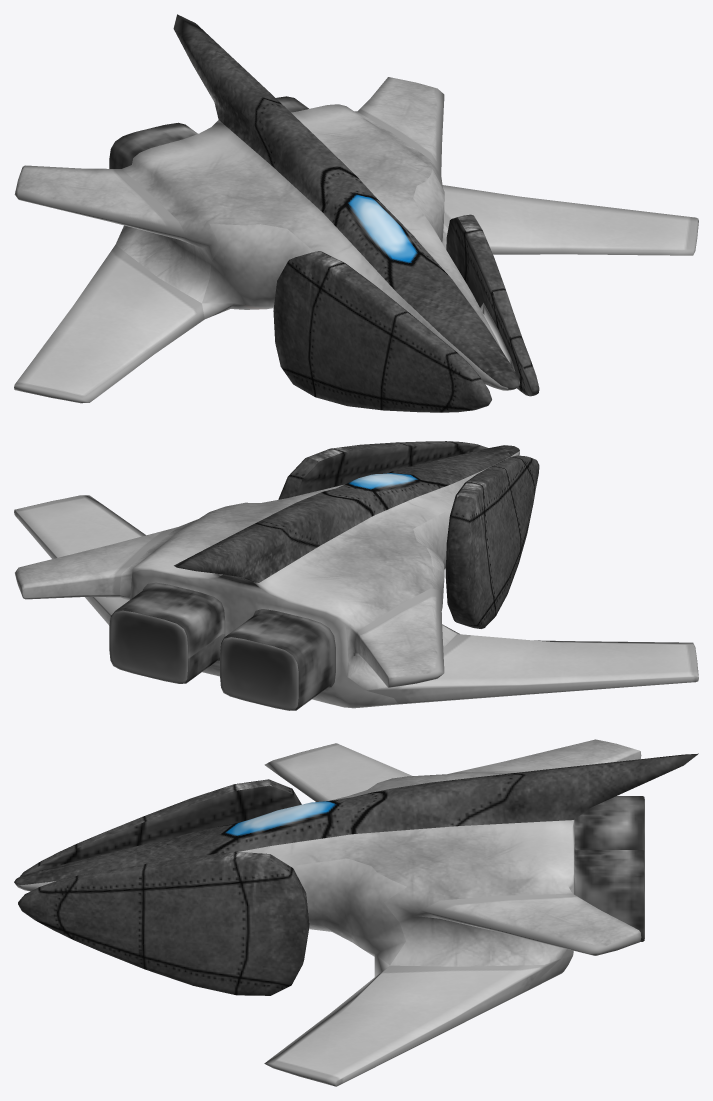
Rendered from Ship_1_ArrowHead.obj.
3 views of the same model, one above another, from view 1: azimuth 30°, elevation 25°; view 2: azimuth 150°, elevation 25°; view 3: azimuth 270°, elevation 25° (orthographic).
Parts seen in each view (by area): view 1: Ship_1_ArrowHead group; view 2: Ship_1_ArrowHead group; view 3: Ship_1_ArrowHead group.
Boxes of the visible parts, box(x1,y1,x2,y2) form: Ship_1_ArrowHead group: box(14, 14, 698, 412); Ship_1_ArrowHead group: box(14, 441, 698, 710); Ship_1_ArrowHead group: box(14, 739, 698, 1086).
Bounding box in the file's own units: 3.96 × 1.08 × 3.38.
